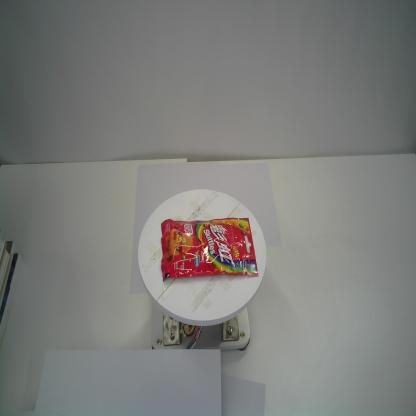Candy: (160, 216, 260, 283)
